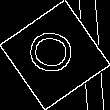O_E: (26, 29, 84, 81)
